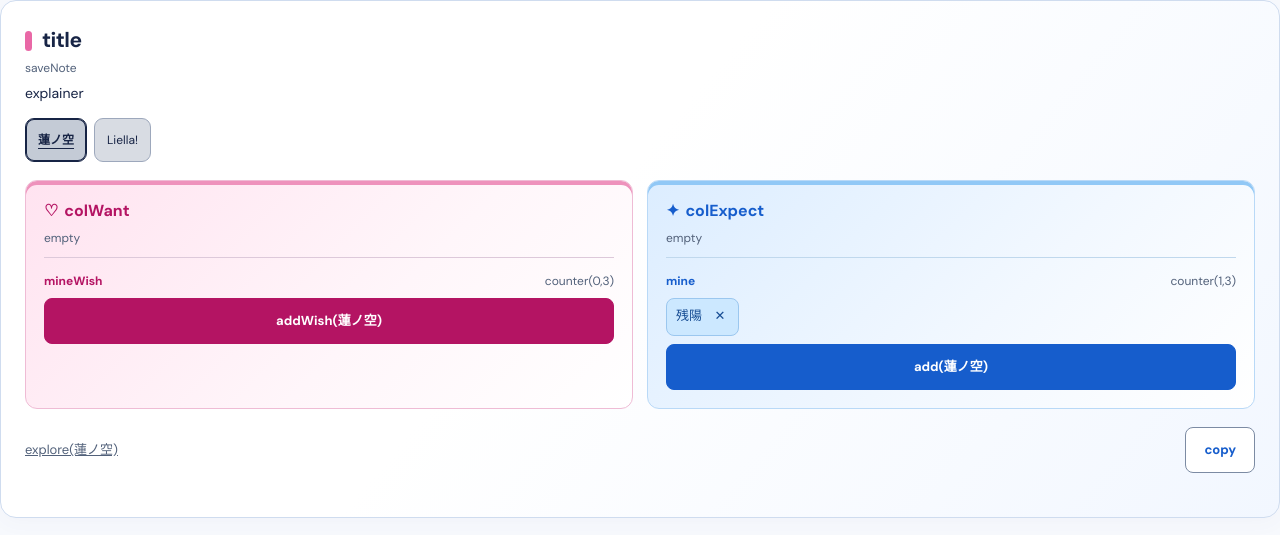
<FanBoardSection> my picks › removes a pick: DELETE with the server id + anon, success feedback
What coordinates should you click on to do the following:
click the button named "removeAria(残陽)"
I would click on:
 (720, 316)
Its box is [706, 302, 734, 330].
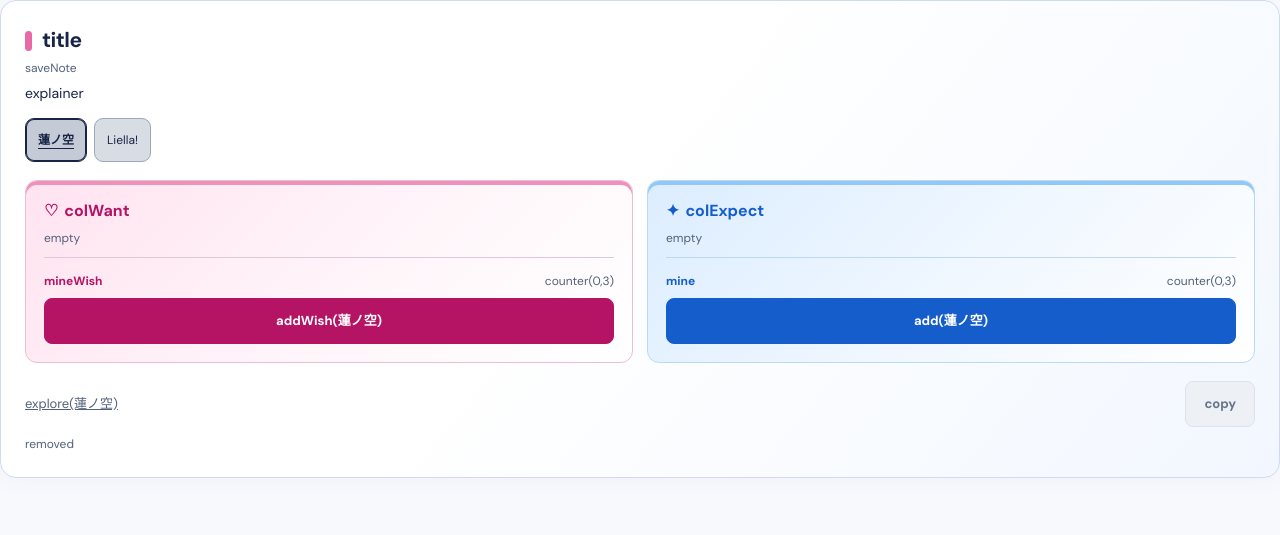
Expected: the text "counter(0,3)" in the row of "mineWish" is shown, [545, 272, 614, 288]
Expected: the message with test id "board-toast" reads "removed", [25, 436, 74, 452]
